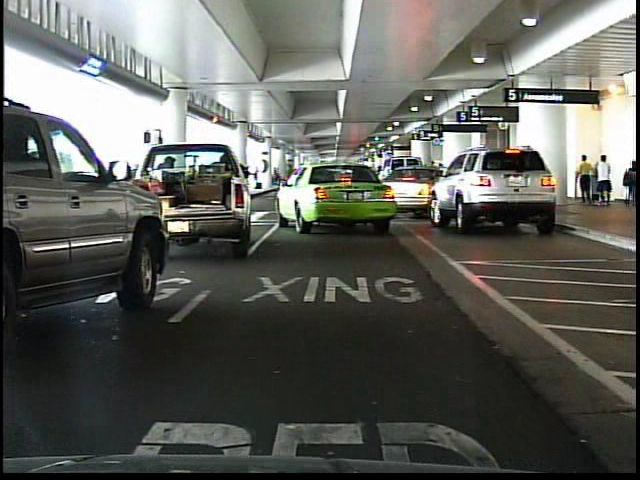person: (596, 152, 614, 209), (617, 159, 636, 210), (577, 156, 594, 205)
